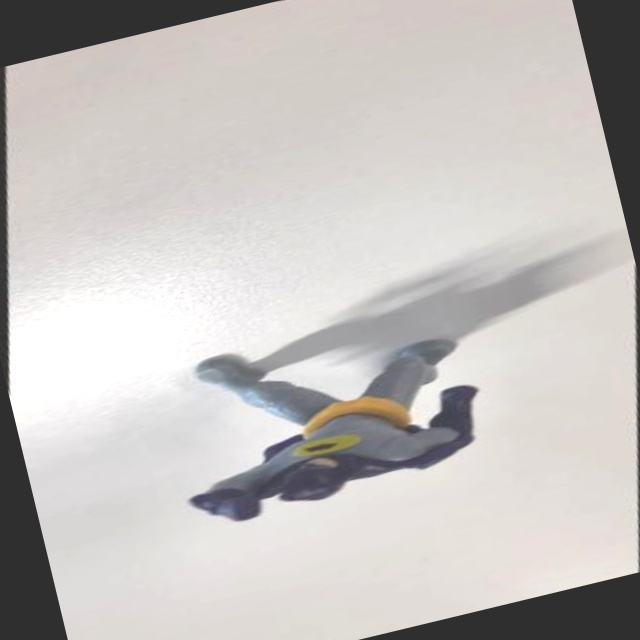Batman: (131, 286, 531, 556)
